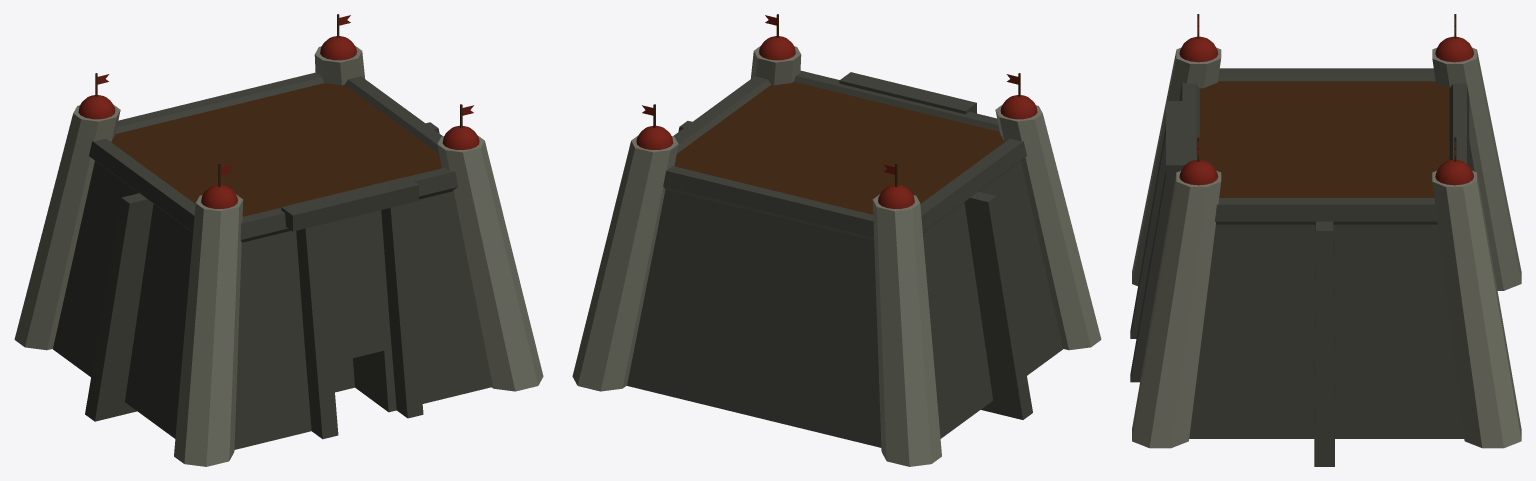
The model's file is Enemy_base_1.FBX.
3 views of the same model, side by side, from view 1: azimuth 30°, elevation 25°; view 2: azimuth 150°, elevation 25°; view 3: azimuth 270°, elevation 25° (orthographic). The views are drawn at different scales.
Visible parts, largest first — view 1: Enemy_base_1; view 2: Enemy_base_1; view 3: Enemy_base_1.
Boxes of the visible parts, x1=… form: Enemy_base_1: x1=14, y1=14, x2=543, y2=466; Enemy_base_1: x1=572, y1=14, x2=1101, y2=466; Enemy_base_1: x1=1130, y1=14, x2=1521, y2=466.
Size of the model in its own units: 1.46 by 1.03 by 1.24.
